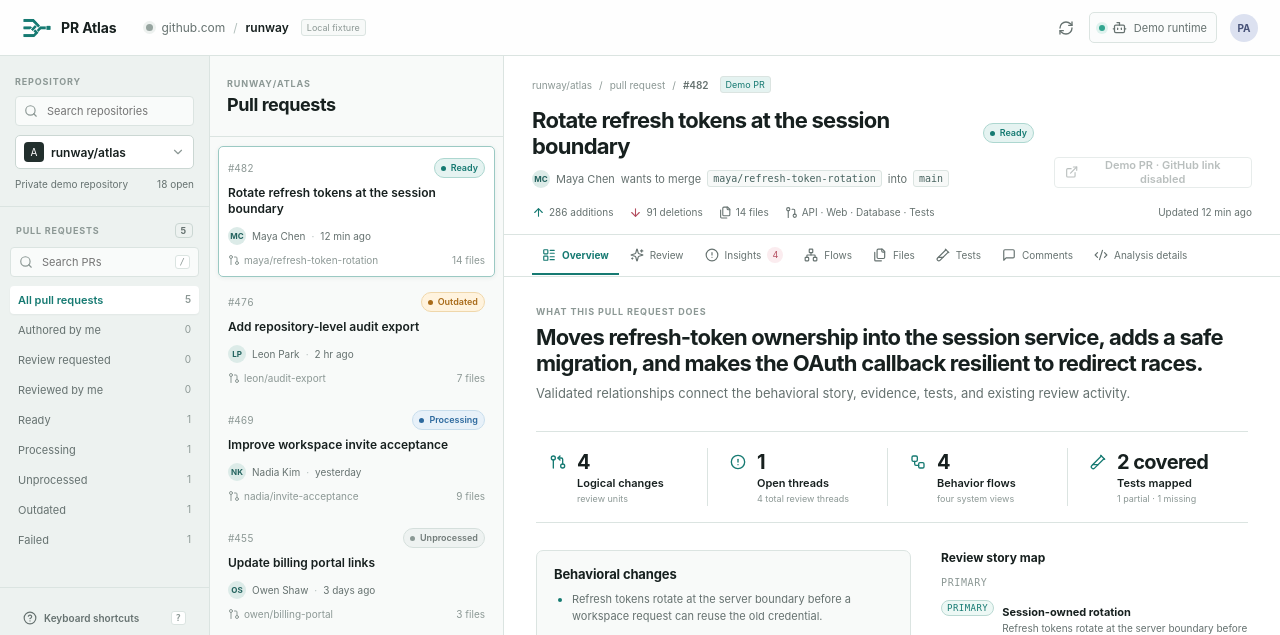
Test case: PR Atlas desktop workflow › switches the selected PR between overview and Review
The width and height of the screenshot is (1280, 635).
What coordinates should you click on to do the following:
click the button "Review"
I would click on:
 (657, 255)
Its box is [620,236,694,275].
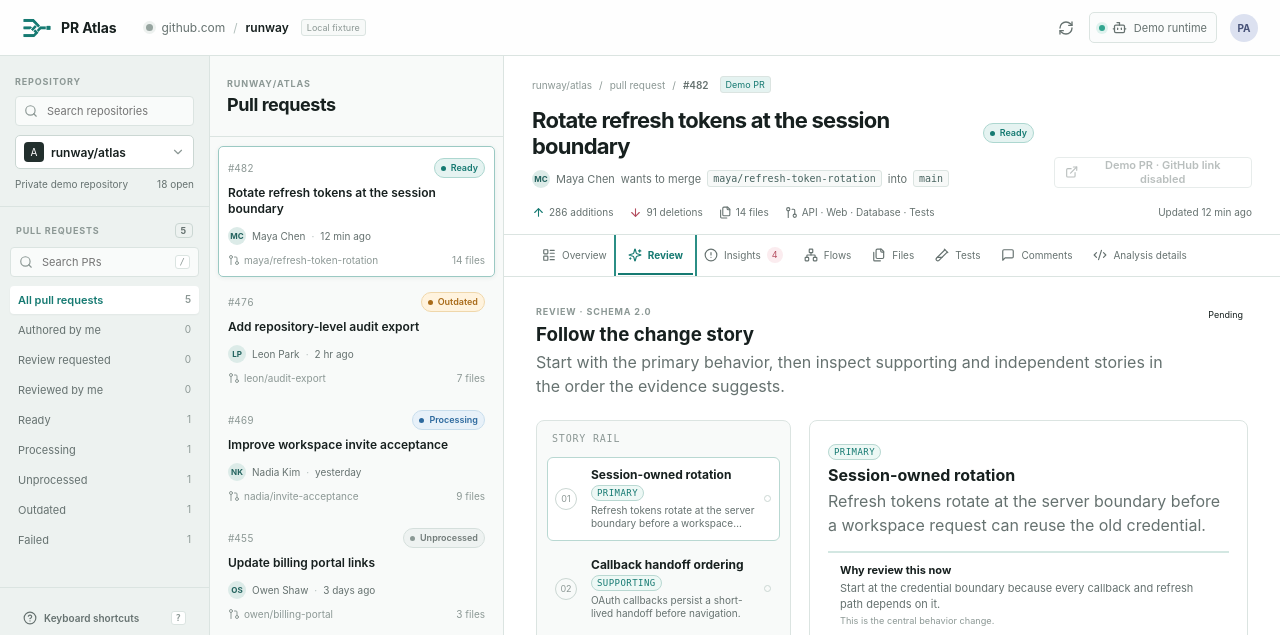
Now the heading "Follow the change story" is shown, box [536,323,754,346]
